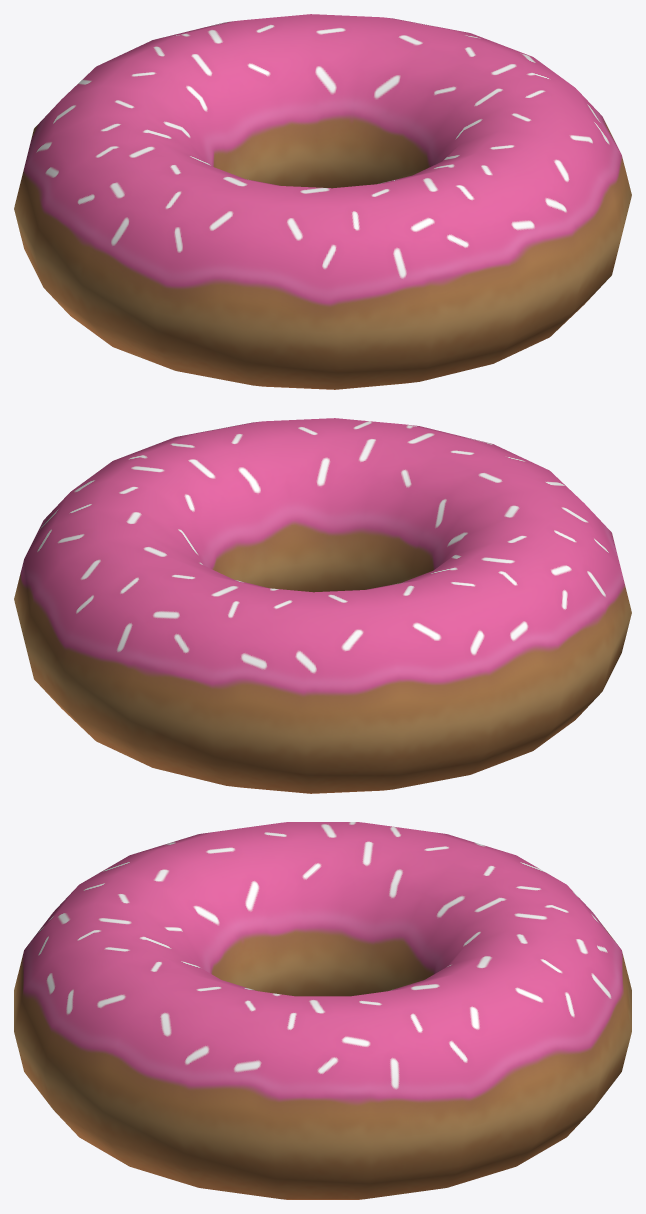
The model's file is Donut.fbx.
3 views of the same model, one above another, from view 1: azimuth 30°, elevation 25°; view 2: azimuth 150°, elevation 25°; view 3: azimuth 270°, elevation 25° (orthographic).
Parts seen in each view (by area): view 1: Donut; view 2: Donut; view 3: Donut.
Boxes of the visible parts, bbox=[...] form: Donut: bbox=[14, 14, 631, 389]; Donut: bbox=[14, 418, 631, 793]; Donut: bbox=[14, 822, 631, 1199].
Bounding box in the file's own units: 159 × 52.27 × 159.
